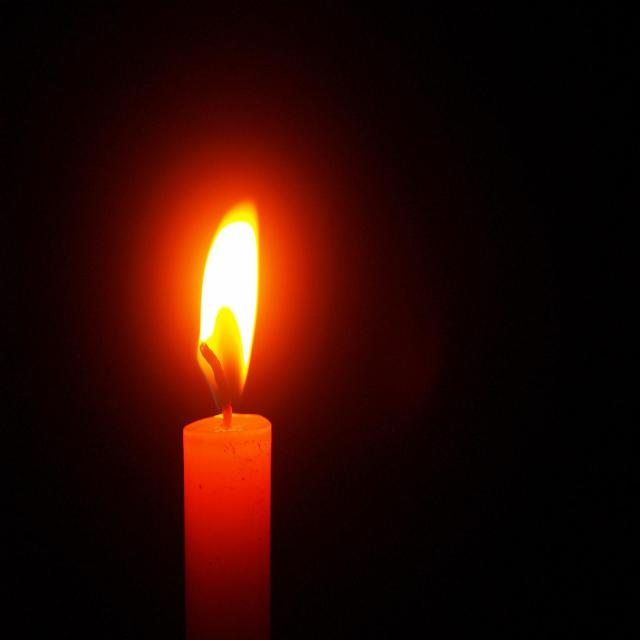Fire_Save: (182, 200, 273, 638), (196, 203, 262, 413)
